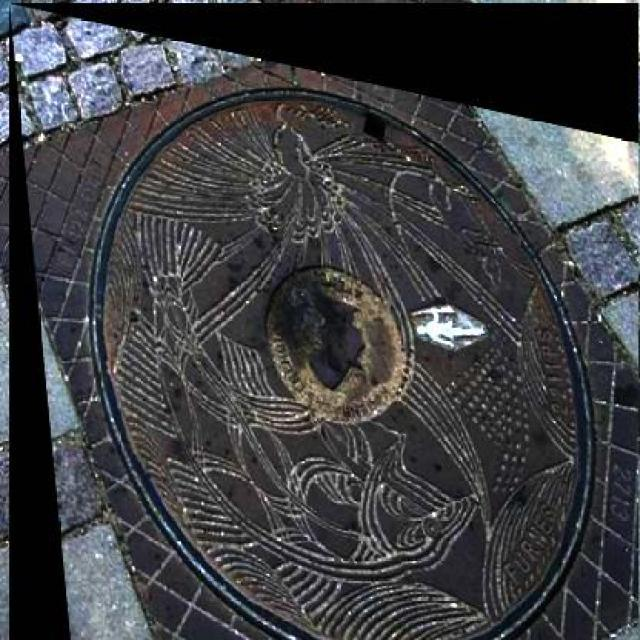Manhole: (9, 3, 638, 640)
